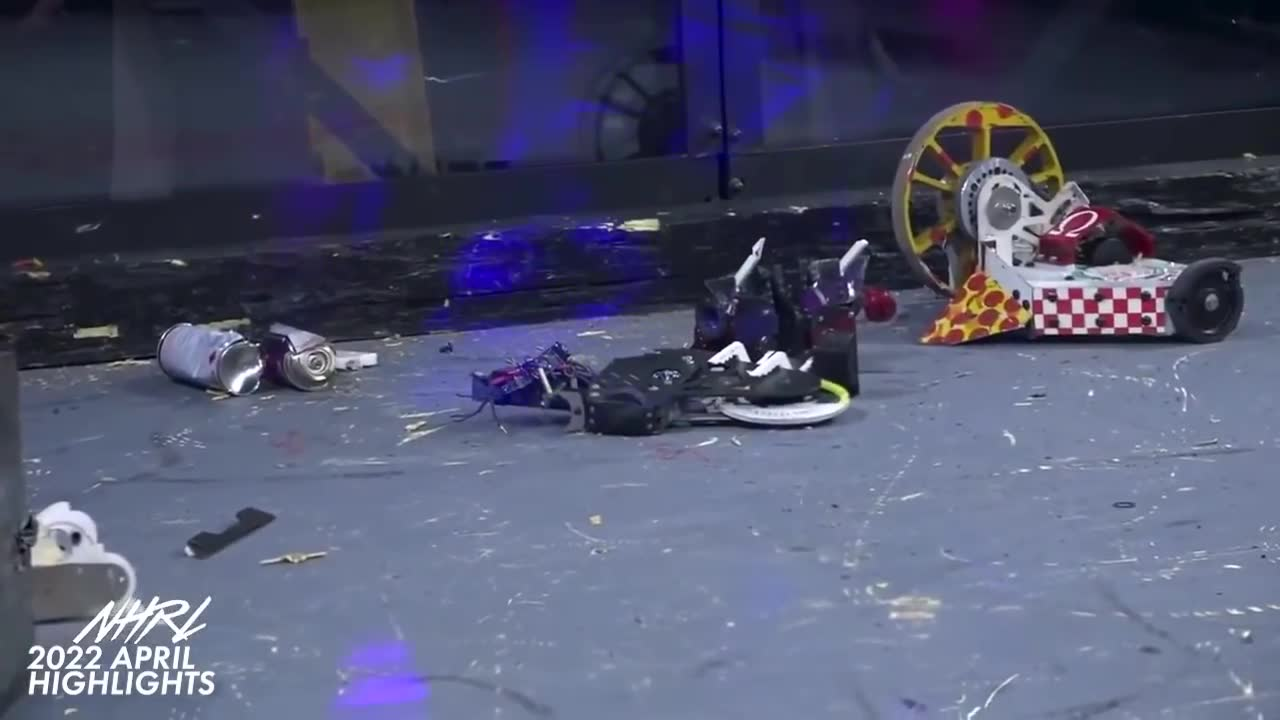combatbot: (897, 105, 1244, 350), (479, 339, 863, 438), (691, 239, 872, 355), (16, 501, 134, 621)
debris: (156, 319, 385, 394), (177, 508, 277, 555)
housebot: (0, 316, 35, 698)
